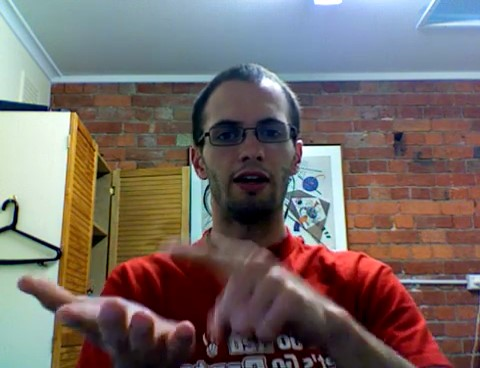L: (12, 227, 335, 364)
